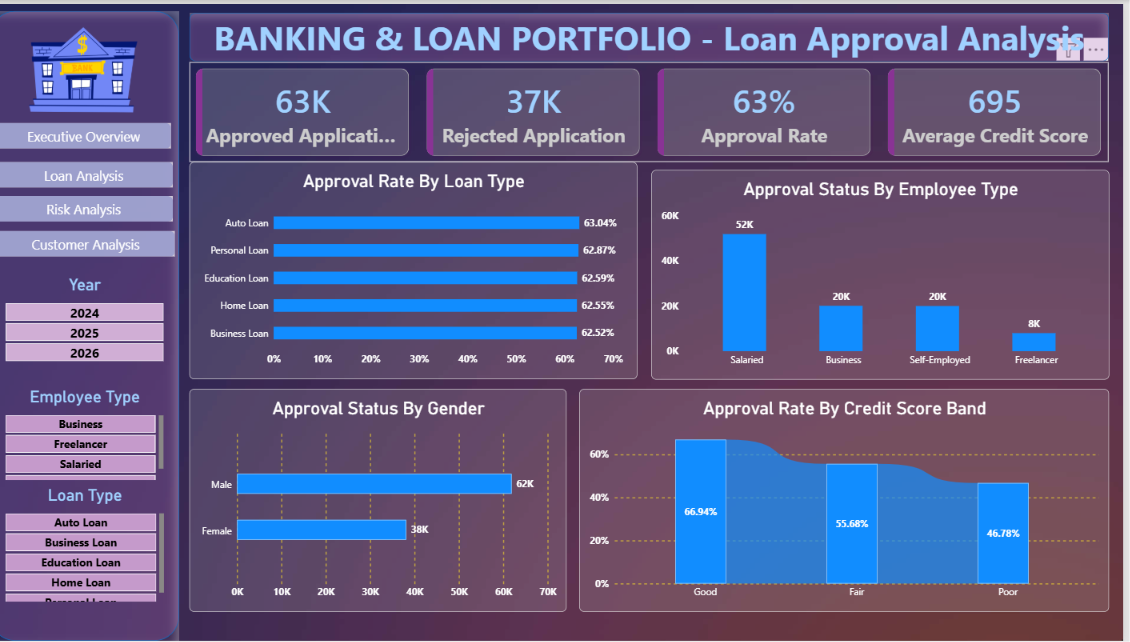

The page's visual inventory and layout, read from the dashboard file:
{"tool":"powerbi","page":{"name":"Loan Approval Analysis ","canvas":[1920,1080],"ordinal":1},"visuals":[{"type":"cardVisual","fields":{"Data":["banking_loan_db loan_applications.Approved Application","banking_loan_db loan_applications.Rejected Application","banking_loan_db loan_applications.Approval Rate","banking_loan_db loan_applications.Average Credit Score"]},"box":[336.8,97.8,1558.7,170.7],"z":0},{"type":"clusteredBarChart","title":"Approval Rate By Loan Type","fields":{"Category":["banking_loan_db loan_applications.loan_type"],"Y":["banking_loan_db loan_applications.Approval Rate"]},"box":[337.8,267.6,759,368.1],"z":1000},{"type":"ribbonChart","title":"Approval Rate By Credit Score Band ","fields":{"Category":["banking_loan_db loan_applications.Credit_Score_Band"],"Y":["banking_loan_db loan_applications.Approval Rate"]},"box":[998.1,652.8,897.6,377.6],"z":2000},{"type":"barChart","title":"Approval Status By Gender ","fields":{"Category":["banking_loan_db loan_applications.gender"],"Y":["banking_loan_db loan_applications.Total Applications"]},"box":[337.8,652.8,639.5,377.6],"z":3000},{"type":"columnChart","title":"Approval Status By Employee Type ","fields":{"Category":["banking_loan_db loan_applications.employment_type"],"Y":["CountNonNull(banking_loan_db loan_applications.customer_id)"]},"box":[1119.6,280.8,776.1,354.9],"z":4000},{"type":"shape","box":[336.8,15.9,1558.7,81.9],"z":5000},{"type":"shape","box":[0,12.5,320,1067.5],"z":6000},{"type":"listSlicer","fields":{"Values":["banking_loan_db loan_applications.application_date.Variation.Date Hierarchy.Year"]},"box":[10,445,299.8,187.9],"z":7000},{"type":"listSlicer","title":"Employee Type ","fields":{"Values":["banking_loan_db loan_applications.employment_type"]},"box":[10,635,299.8,187.9],"z":8000},{"type":"listSlicer","title":"Loan Type ","fields":{"Values":["banking_loan_db loan_applications.loan_type"]},"box":[10,802.5,300,227.5],"z":9000},{"type":"actionButton","box":[10,202.5,295.8,43.2],"z":9001},{"type":"actionButton","box":[7.5,267.5,302.6,43.2],"z":9002},{"type":"actionButton","box":[7.5,325,302.6,43.2],"z":9003},{"type":"actionButton","box":[10,385,302.6,43.2],"z":9004},{"type":"image","box":[47.5,20,220,182.5],"z":9005}]}

Visuals, with their boxes in screenshot pixels (x1, y1, x2, y2), scaled from the page's 1920x1080 canvas onto the 1130x642 screenshot:
cardVisual - banking_loan_db loan_applications.Approved Application x banking_loan_db loan_applications.Rejected Application: 198:58:1116:160
"Approval Rate By Loan Type" clusteredBarChart: 199:159:646:378
"Approval Rate By Credit Score Band " ribbonChart: 587:388:1116:613
"Approval Status By Gender " barChart: 199:388:575:613
"Approval Status By Employee Type " columnChart: 659:167:1116:378
shape: 198:9:1116:58
shape: 0:7:188:641
listSlicer - banking_loan_db loan_applications.application_date.Variation.Date Hierarchy.Year: 6:265:182:376
"Employee Type " listSlicer: 6:377:182:489
"Loan Type " listSlicer: 6:477:182:612
actionButton: 6:120:180:146
actionButton: 4:159:183:185
actionButton: 4:193:183:219
actionButton: 6:229:184:255
image: 28:12:157:120
